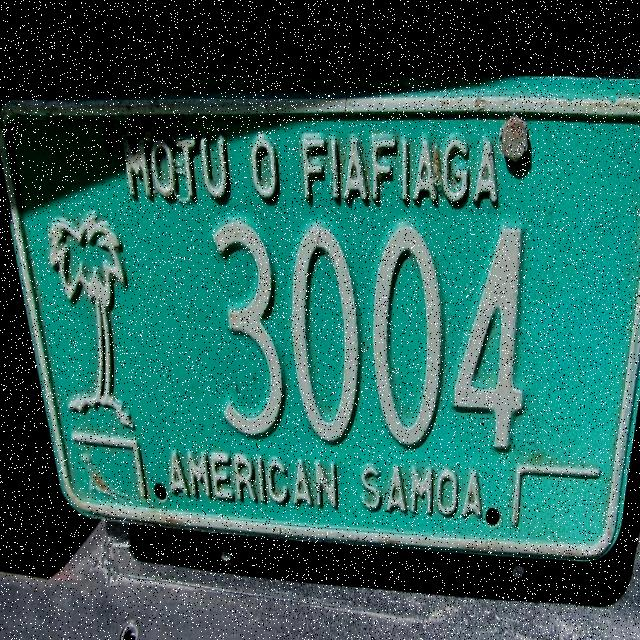licenseplate: (0, 99, 634, 568)
